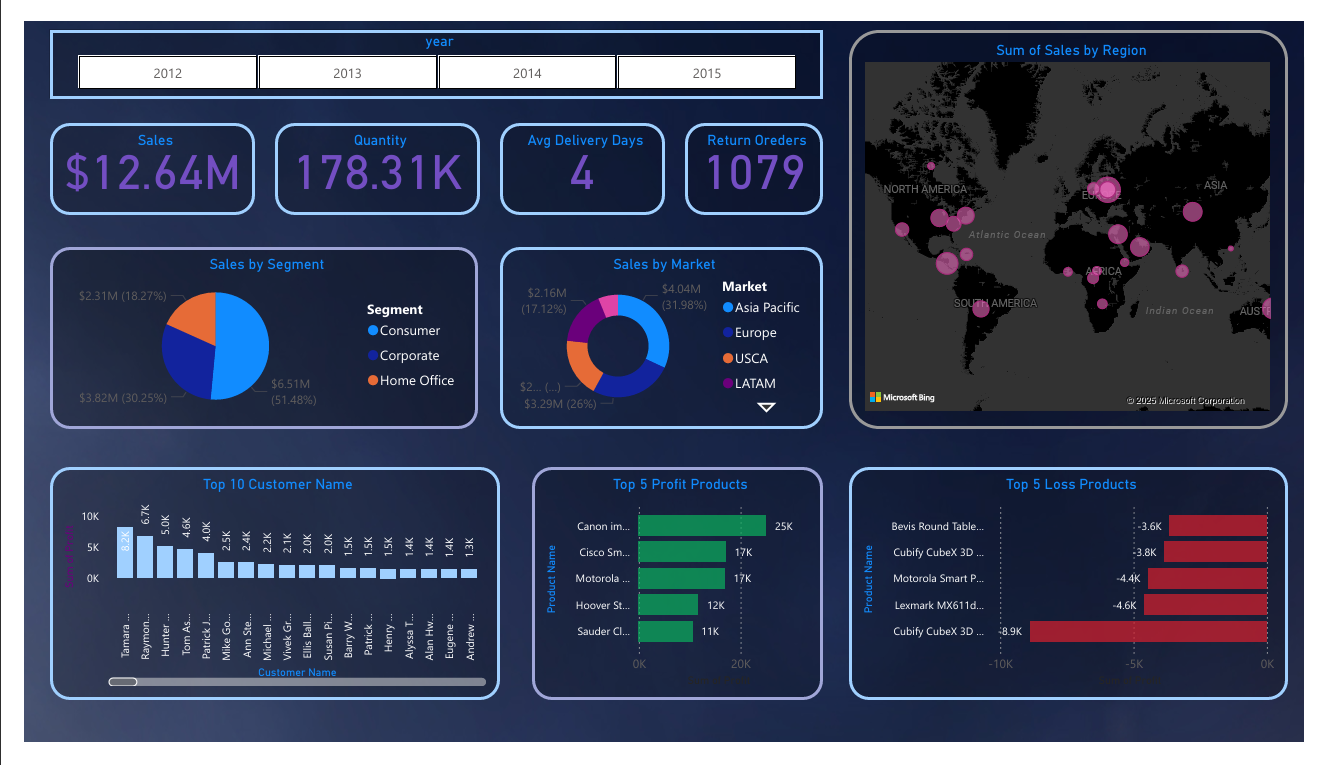

This screenshot's page, from the dashboard's own definition file:
{"tool":"powerbi","page":{"name":"Page 1","canvas":[1280,720],"ordinal":0},"visuals":[{"type":"card","title":"Sales","fields":{"Values":["Orders.Sales"]},"box":[25,101,205,92],"z":0},{"type":"card","title":"Quantity","fields":{"Values":["Orders.Quantity"]},"box":[250,101,205,92],"z":1000},{"type":"card","title":"Avg Delivery Days","fields":{"Values":["Orders.Delivery Days"]},"box":[475,101,168,92],"z":2000},{"type":"slicer","title":"year","fields":{"Values":["Orders.Year"]},"box":[25,8,773,69],"z":3000},{"type":"card","title":"Return Oreders","fields":{"Values":["Returns.Returns Orders"]},"box":[660,101,138,92],"z":4000},{"type":"map","fields":{"Category":["Orders.Region"],"Size":["Orders.Sales"]},"box":[824,8,439,399],"z":5000},{"type":"clusteredBarChart","title":"Top 5 Profit Products","fields":{"Y":["Orders.Profit"],"Category":["Orders.Product Name"]},"box":[507,445,291,233],"z":6000},{"type":"clusteredBarChart","title":"Top 5 Loss Products","fields":{"Y":["Orders.Profit"],"Category":["Orders.Product Name"]},"box":[824,445,439,233],"z":7000},{"type":"pieChart","title":"Sales by Segment","fields":{"Category":["Orders.Segment"],"Y":["Orders.Sales"]},"box":[25,225,428,182],"z":8000},{"type":"donutChart","title":"Sales by Market","fields":{"Category":["Orders.Market"],"Y":["Orders.Sales"]},"box":[475,225,323,182],"z":9000},{"type":"columnChart","title":"Top 10 Customer Name","fields":{"Category":["Orders.Customer Name"],"Y":["Orders.Profit"]},"box":[25,445,450,233],"z":10000}]}

Visuals, with their boxes in screenshot pixels (x1, y1, x2, y2), scaled from the page's 1280x720 canvas onto the 1328x765 screenshot:
"Sales" card: 26:107:239:205
"Quantity" card: 259:107:472:205
"Avg Delivery Days" card: 493:107:667:205
"year" slicer: 26:8:828:82
"Return Oreders" card: 685:107:828:205
map - Orders.Region x Orders.Sales: 855:8:1310:432
"Top 5 Profit Products" clusteredBarChart: 526:473:828:720
"Top 5 Loss Products" clusteredBarChart: 855:473:1310:720
"Sales by Segment" pieChart: 26:239:470:432
"Sales by Market" donutChart: 493:239:828:432
"Top 10 Customer Name" columnChart: 26:473:493:720
